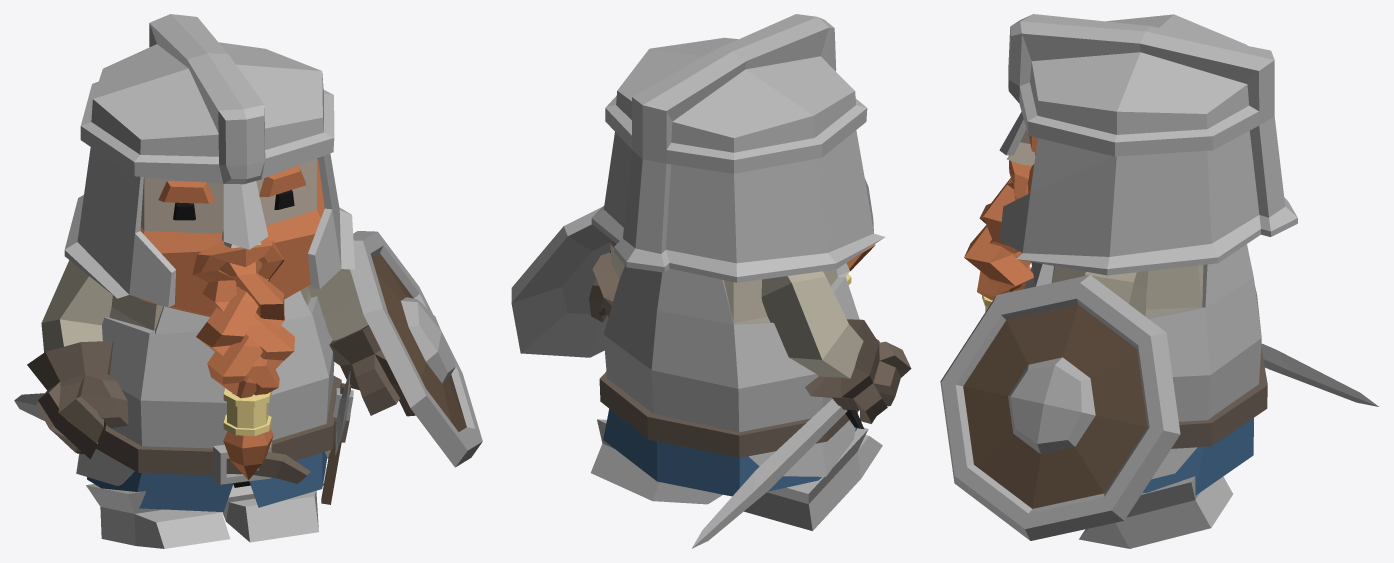
The model's file is guerrier-2.glb.
3 renders of one model, left to right at view 1: azimuth 30°, elevation 25°; view 2: azimuth 150°, elevation 25°; view 3: azimuth 270°, elevation 25°, orthographic. The views are drawn at different scales.
Visible parts, largest first — view 1: DwarfGuard_GEO3_CharTxt_MAT_0; view 2: DwarfGuard_GEO3_CharTxt_MAT_0; view 3: DwarfGuard_GEO3_CharTxt_MAT_0.
Boxes of the visible parts, x1,y1,x2,y2 form: DwarfGuard_GEO3_CharTxt_MAT_0: (14,14,482,548); DwarfGuard_GEO3_CharTxt_MAT_0: (511,14,911,548); DwarfGuard_GEO3_CharTxt_MAT_0: (940,14,1378,548).
Size of the model in its own units: 1.28 by 1.43 by 1.21.
Materials: 1 (1 with a texture image).
